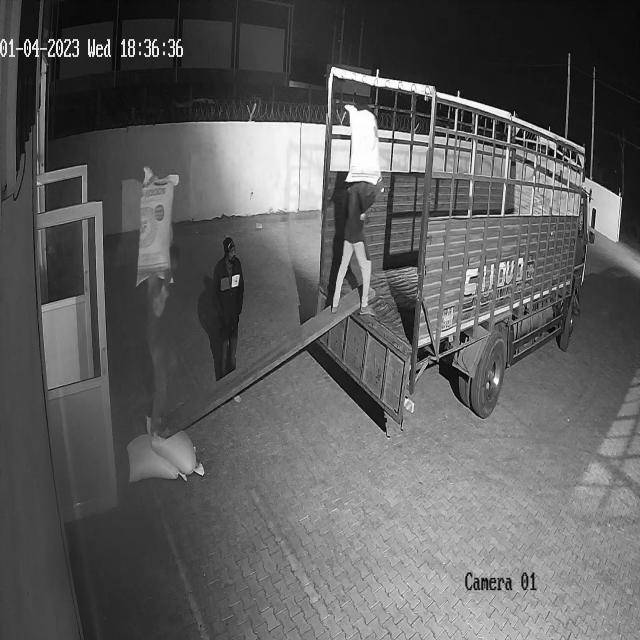sack: (134, 164, 180, 286), (145, 414, 204, 477), (344, 104, 382, 187), (126, 434, 185, 483)
